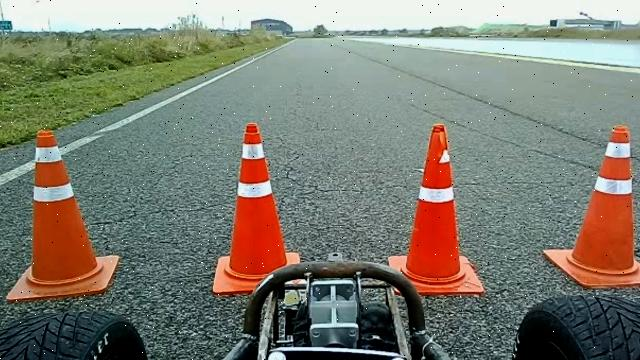red cone: (6, 128, 120, 302), (388, 124, 485, 298), (542, 124, 640, 289), (214, 121, 303, 296)
